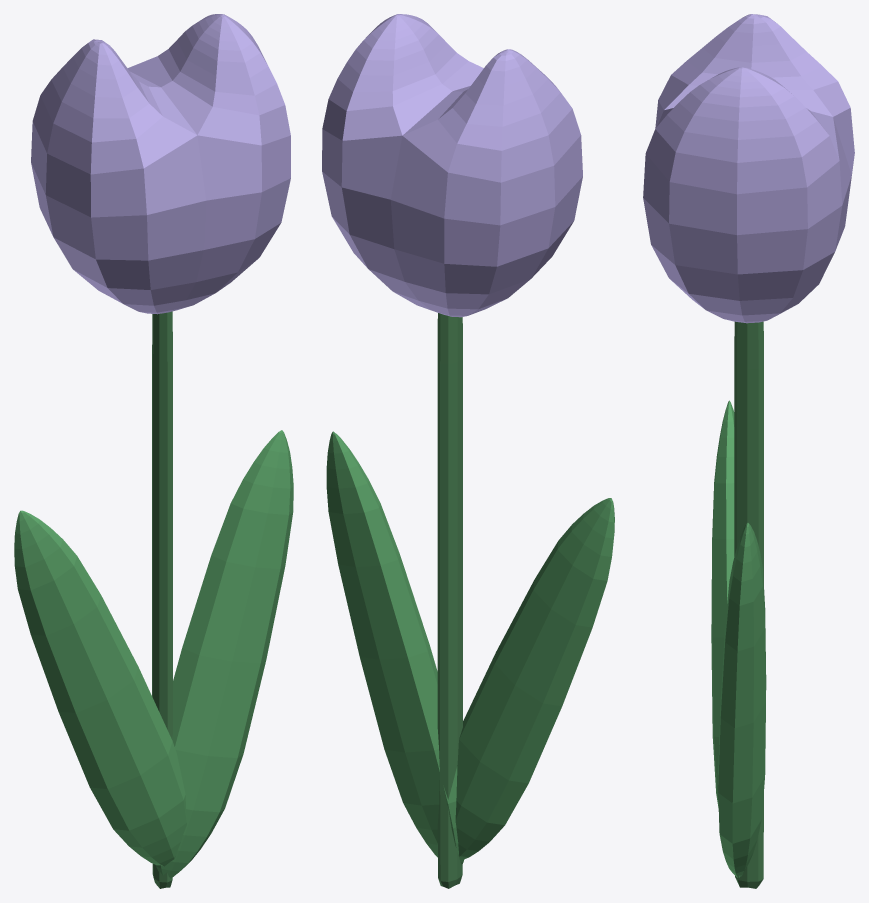
The model's file is tulip.fbx.
The picture shows the model from 3 angles, left to right: view 1: azimuth 30°, elevation 25°; view 2: azimuth 150°, elevation 25°; view 3: azimuth 270°, elevation 25°; orthographic projection.
Parts seen in each view (by area): view 1: Cube, Cube.006, Cube.001, Cube.007; view 2: Cube, Cube.006, Cube.001, Cube.007; view 3: Cube, Cube.001, Cube.007, Cube.006.
Part boxes in pixels (bbox=[...]): Cube: bbox=[31, 14, 290, 314]; Cube.006: bbox=[14, 510, 186, 866]; Cube.001: bbox=[155, 430, 293, 878]; Cube.007: bbox=[152, 311, 172, 888]; Cube: bbox=[322, 14, 582, 317]; Cube.006: bbox=[455, 498, 614, 859]; Cube.001: bbox=[326, 431, 464, 865]; Cube.007: bbox=[437, 313, 462, 888]; Cube: bbox=[643, 14, 854, 323]; Cube.001: bbox=[718, 523, 766, 877]; Cube.007: bbox=[734, 321, 763, 888]; Cube.006: bbox=[711, 400, 739, 878].
Bounding box in the file's own units: 31.34 × 90.64 × 20.57.
